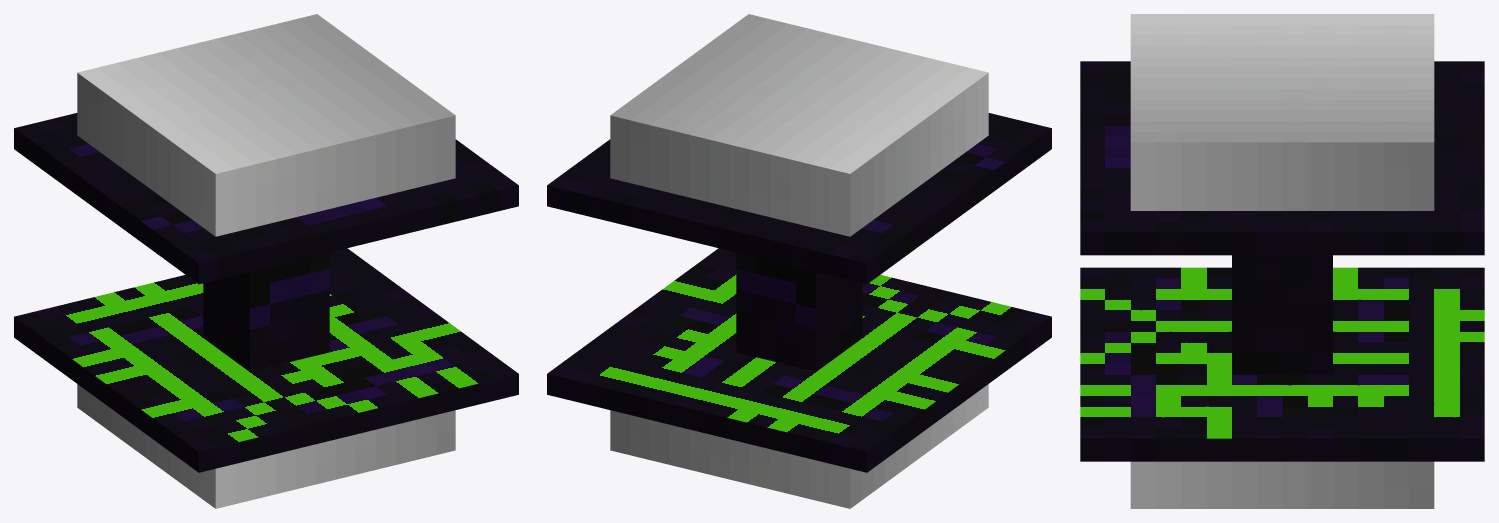
The model's file is interceptor.obj.
3 views of the same model, side by side, from view 1: azimuth 30°, elevation 25°; view 2: azimuth 150°, elevation 25°; view 3: azimuth 270°, elevation 25° (orthographic). The views are drawn at different scales.
Parts seen in each view (by area): view 1: Cube; view 2: Cube; view 3: Cube.
Boxes of the visible parts, x1,y1,x2,y2 form: Cube: [14, 14, 518, 508]; Cube: [547, 14, 1051, 508]; Cube: [1080, 14, 1484, 508].
Size of the model in its own units: 1 by 1 by 1.
